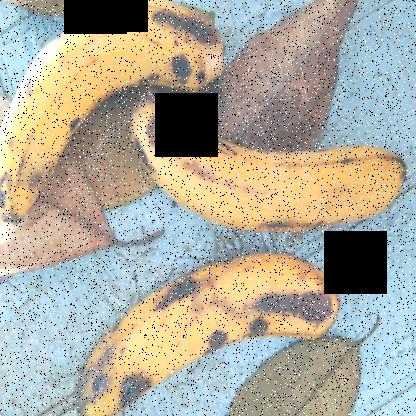overripe: (43, 238, 344, 415), (0, 0, 224, 223)
ripe: (128, 87, 415, 240)
